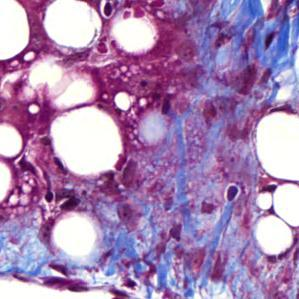steatosis: (40, 0, 101, 48), (253, 213, 292, 260)
